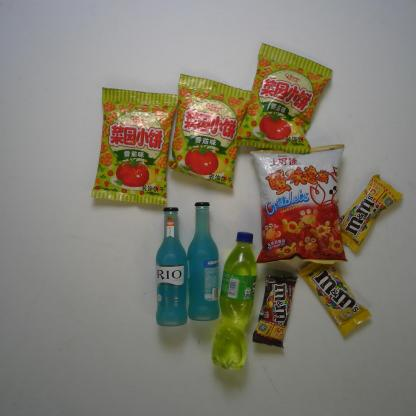Alcohol: (184, 200, 221, 322), (154, 206, 190, 328)
Chocolate: (297, 261, 373, 338), (338, 172, 405, 254), (250, 274, 300, 349)
Drink: (209, 230, 259, 372)
Puffed Food: (248, 143, 350, 266), (232, 41, 335, 156), (89, 85, 179, 206), (166, 72, 254, 190)
